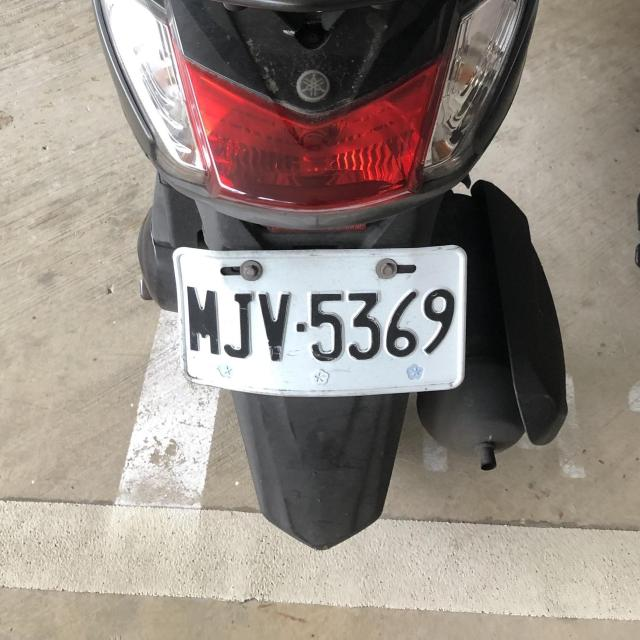W: (167, 241, 468, 402)
